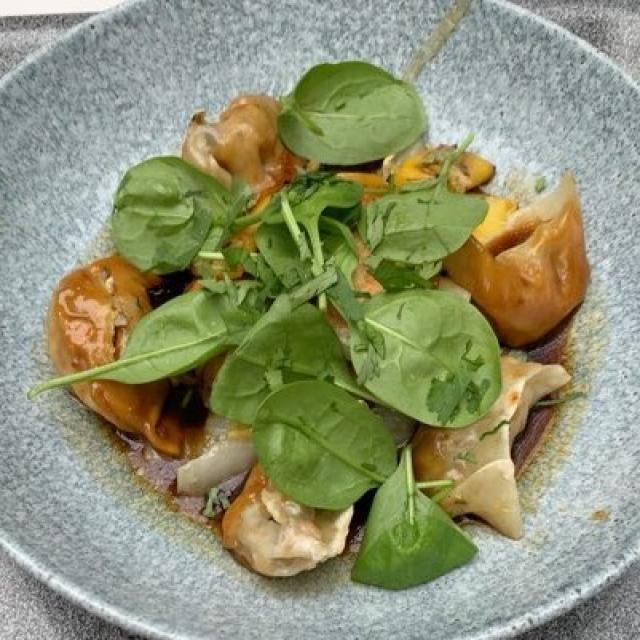spinach: (68, 51, 514, 594)
